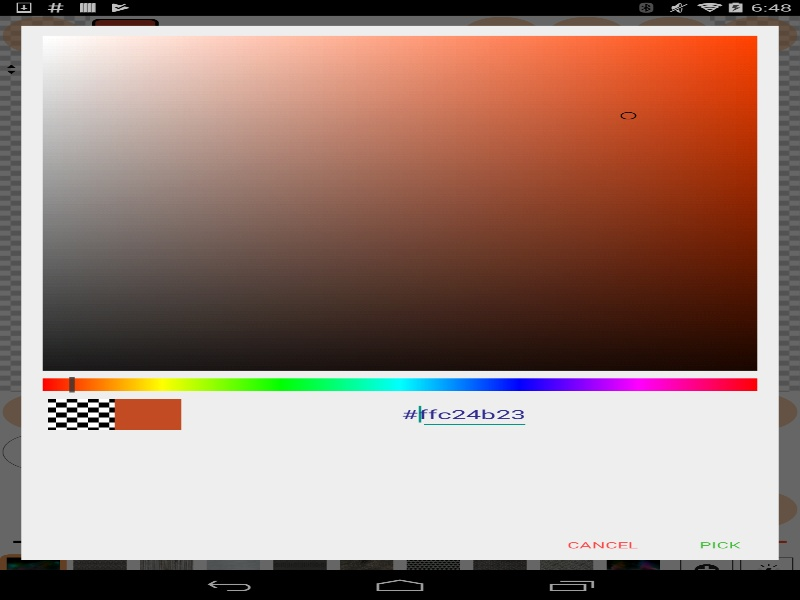Button: (544, 530, 661, 560), (661, 530, 778, 560)
Input: (418, 399, 530, 429)
